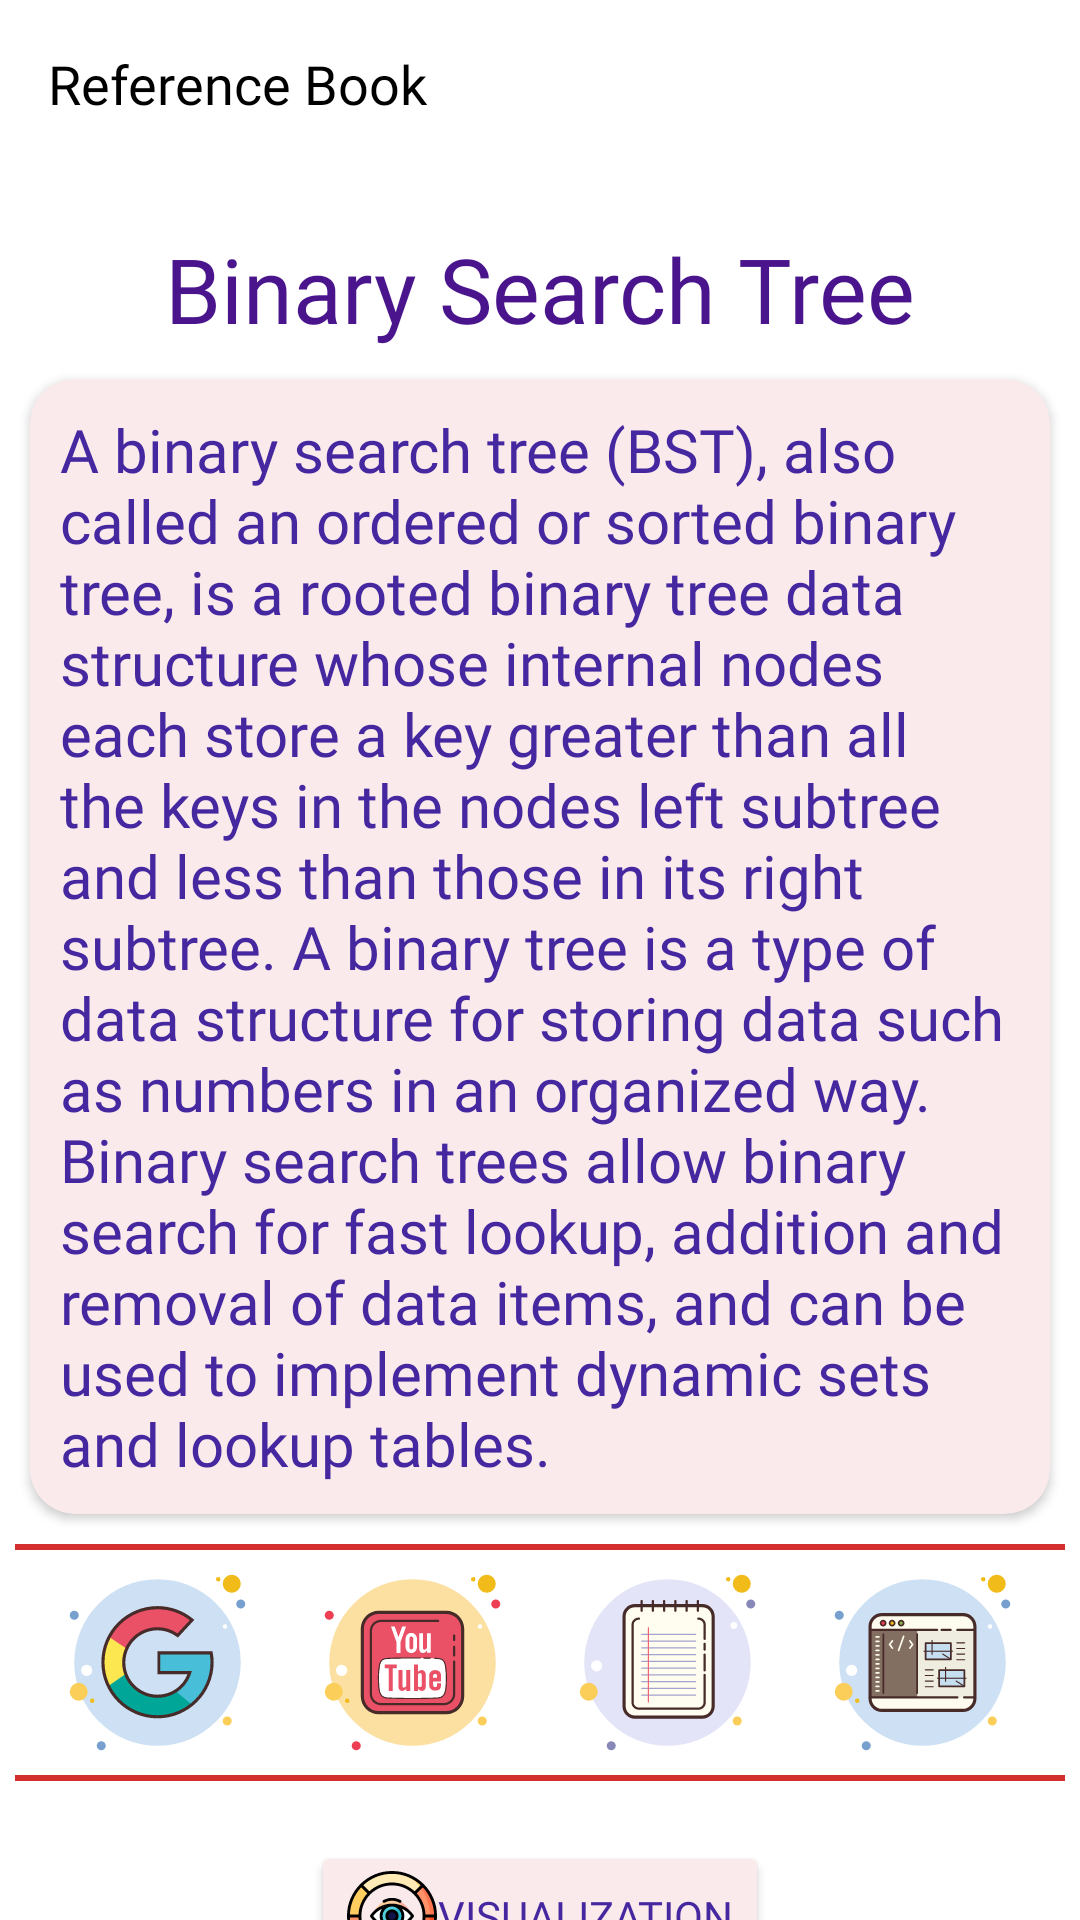

Where to tap for icons on this 1080px×1920px app screen, as [x,y]:
code vec: [922,1662]
note vec: [667,1662]
